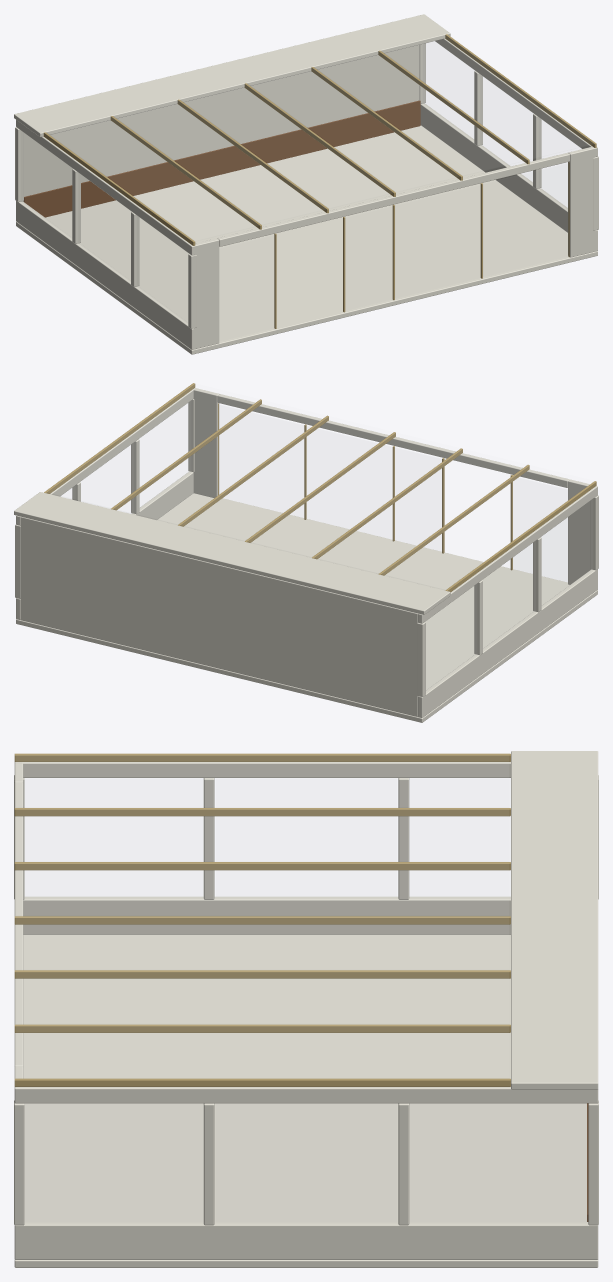
Rendered from city-courthouse-and-records-office-city-courthouse-and-c685687a__30953.glb.
The picture shows the model from 3 angles, top to bottom: view 1: azimuth 30°, elevation 25°; view 2: azimuth 150°, elevation 25°; view 3: azimuth 270°, elevation 25°; orthographic projection. The views are drawn at different scales.
Parts seen in each view (by area): view 1: city-courthouse-and-records-office-roofed-courthouse-hall; view 2: city-courthouse-and-records-office-roofed-courthouse-hall; view 3: city-courthouse-and-records-office-roofed-courthouse-hall.
Boxes of the visible parts, left/top/right/bottom form: city-courthouse-and-records-office-roofed-courthouse-hall: left=14, top=14, right=598, bottom=354; city-courthouse-and-records-office-roofed-courthouse-hall: left=14, top=383, right=598, bottom=722; city-courthouse-and-records-office-roofed-courthouse-hall: left=14, top=751, right=598, bottom=1267.
Size of the model in its own units: 16.16 by 4.25 by 12.02.
